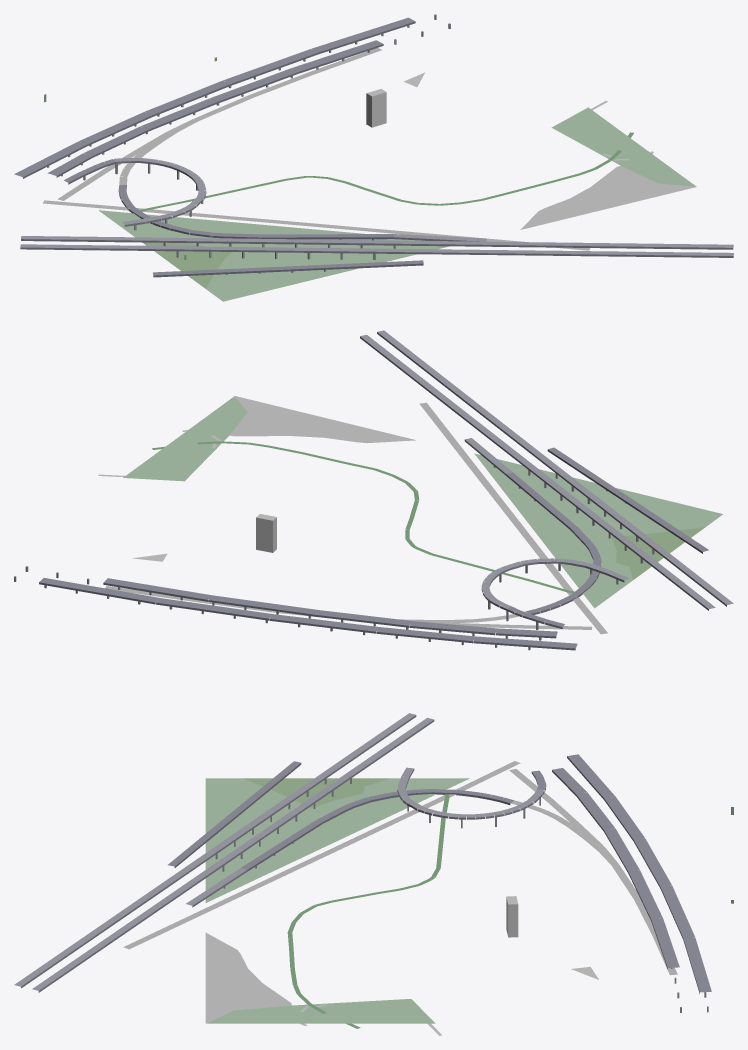
3 renders of one model, top to bottom at view 1: azimuth 30°, elevation 25°; view 2: azimuth 150°, elevation 25°; view 3: azimuth 270°, elevation 25°, orthographic. The views are drawn at different scales.
Size of the model in its own units: 635 by 32.81 by 622.
